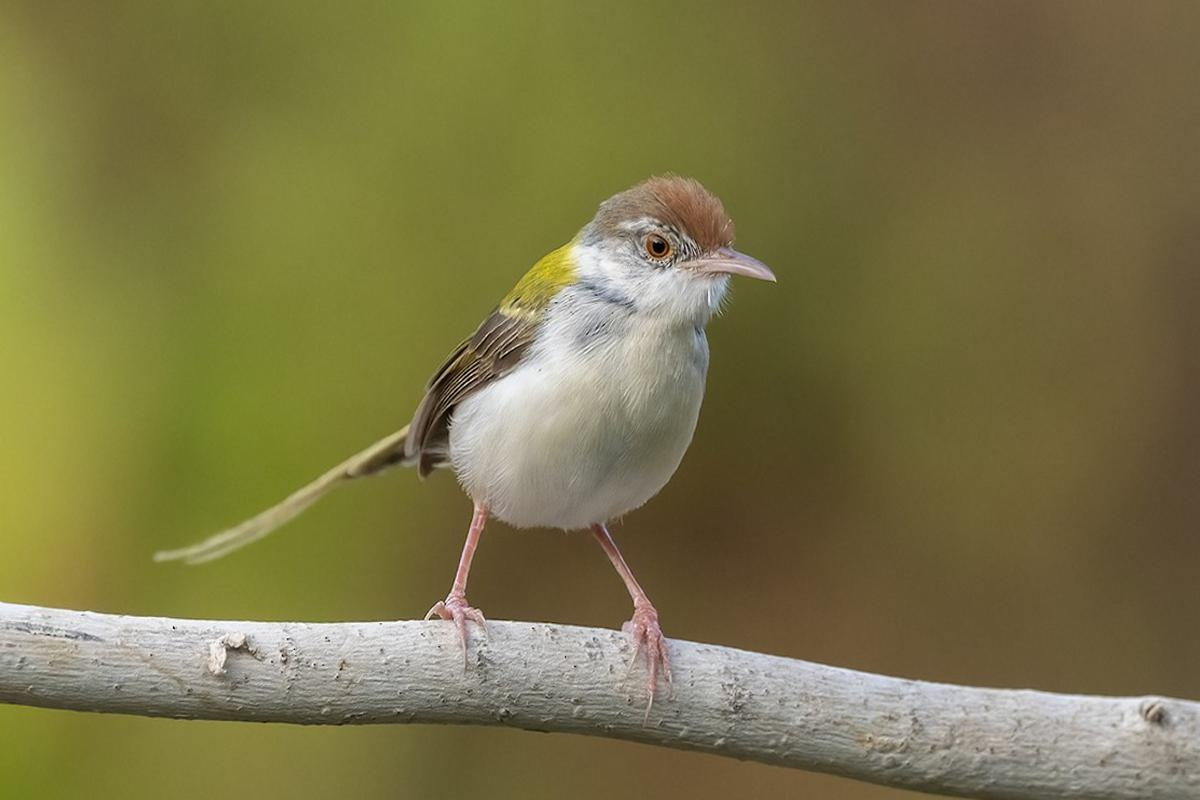tailorbird: (161, 144, 835, 698)
